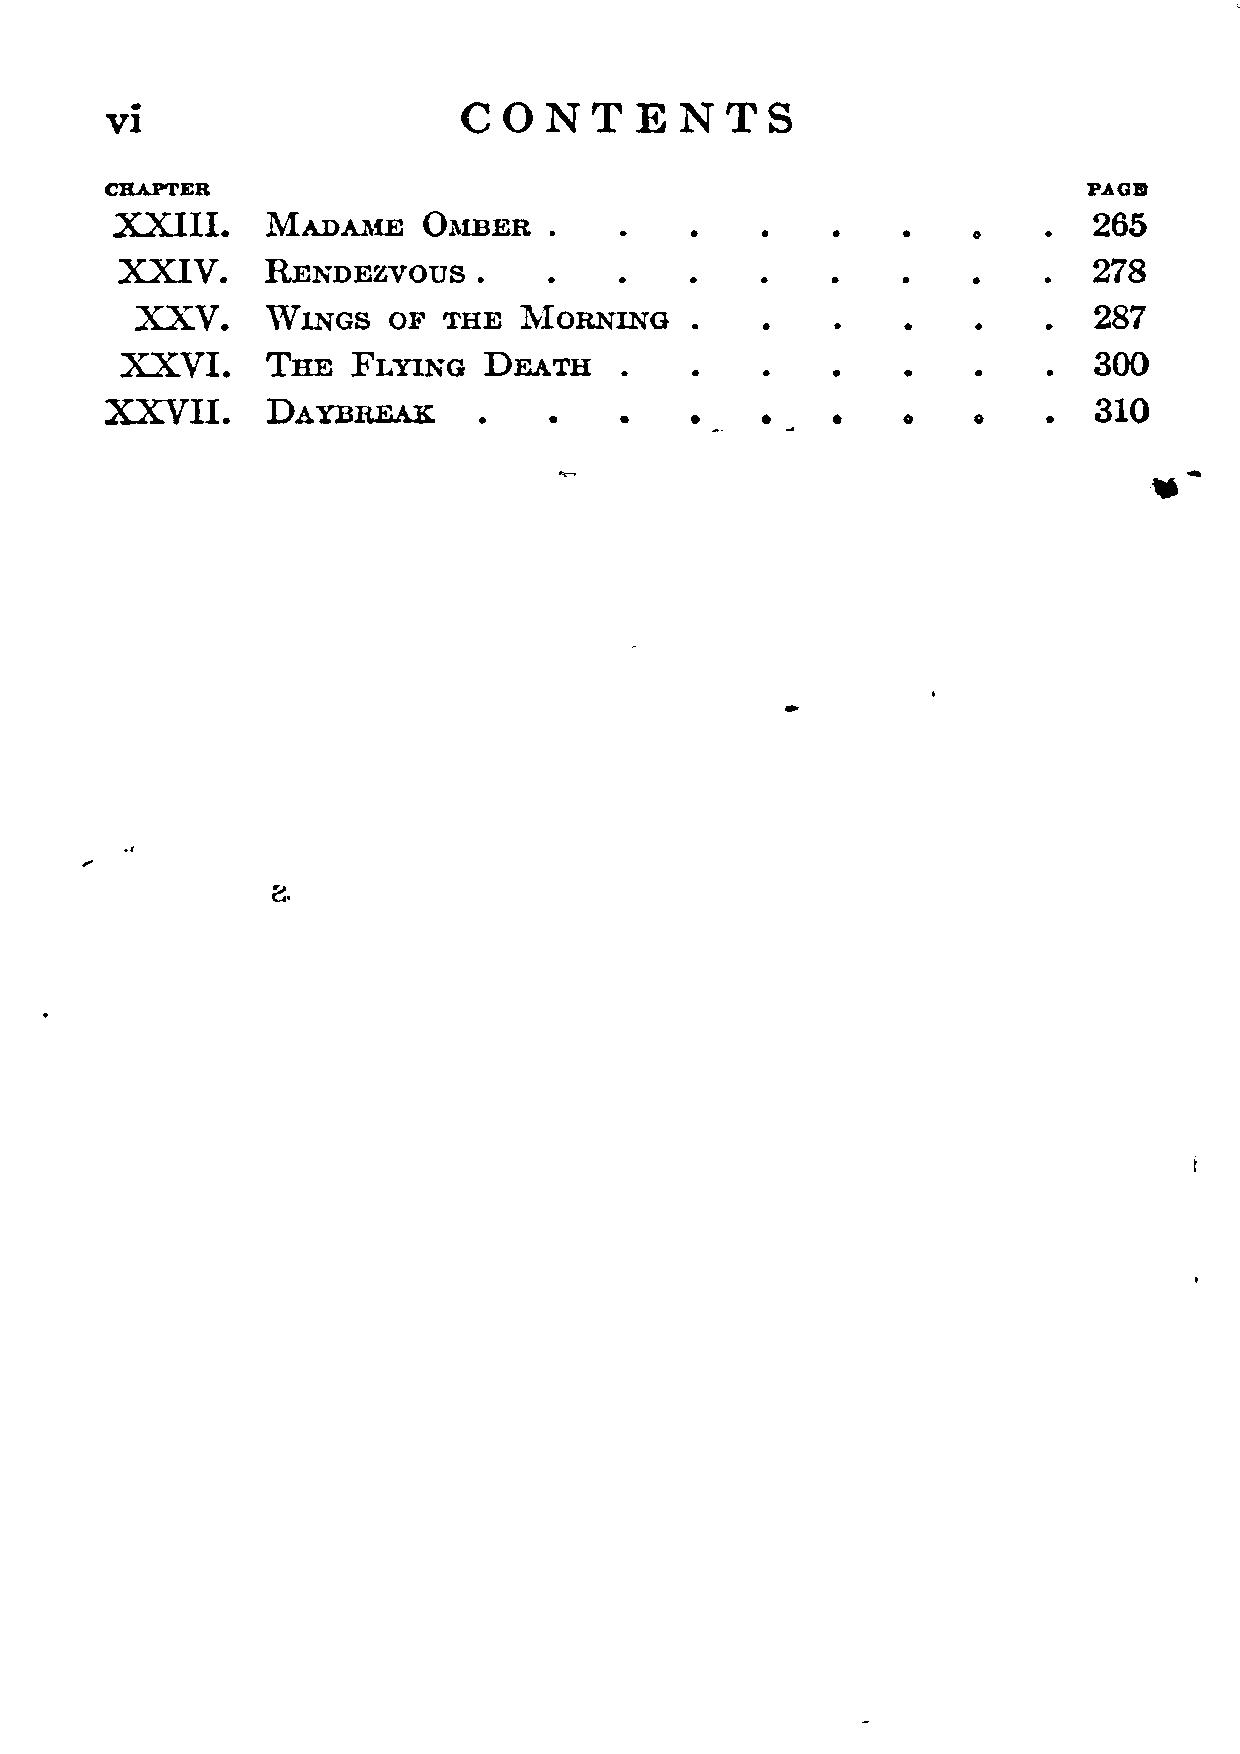TOC_chapter: (130, 299, 680, 344), (109, 344, 607, 388), (107, 250, 475, 297), (107, 205, 539, 243), (101, 391, 447, 433)
TOC_pagenumber: (1091, 393, 1161, 431), (1091, 345, 1155, 381), (1091, 203, 1151, 238), (1091, 250, 1150, 283), (1088, 299, 1147, 333)
chapter: (450, 89, 805, 145)
